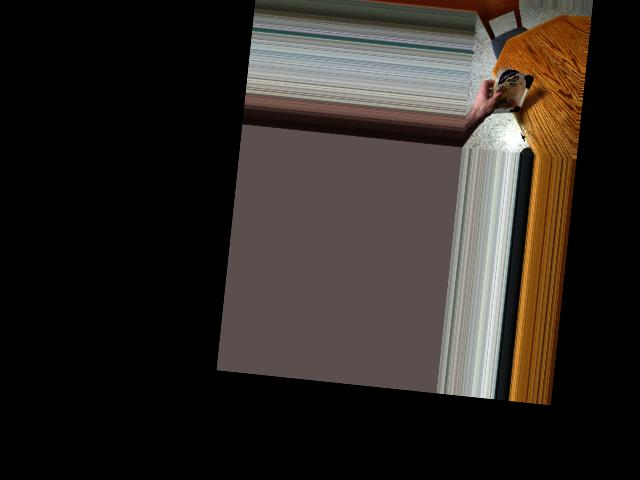cheese: (490, 64, 530, 119)
